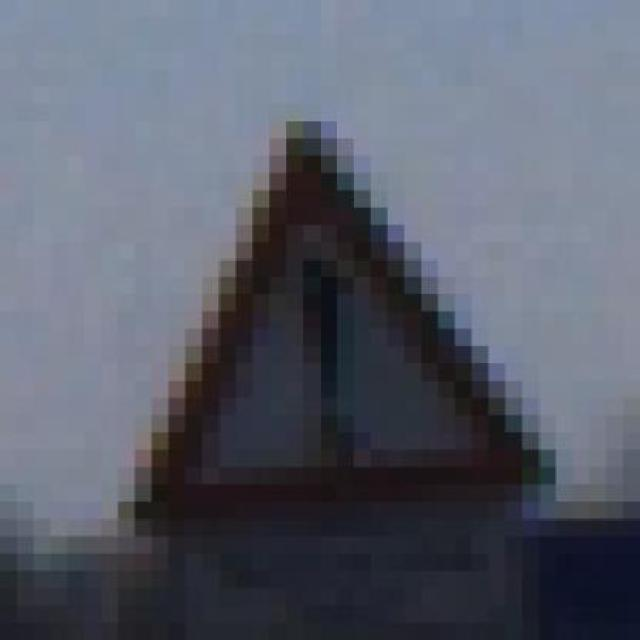Attention Please-: (101, 120, 573, 572)
